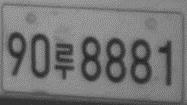0: (30, 32, 50, 78)
1: (157, 39, 173, 87)
8: (129, 38, 152, 85), (104, 36, 126, 83), (80, 36, 102, 82)
9: (5, 30, 28, 77)
루: (54, 41, 75, 80)
